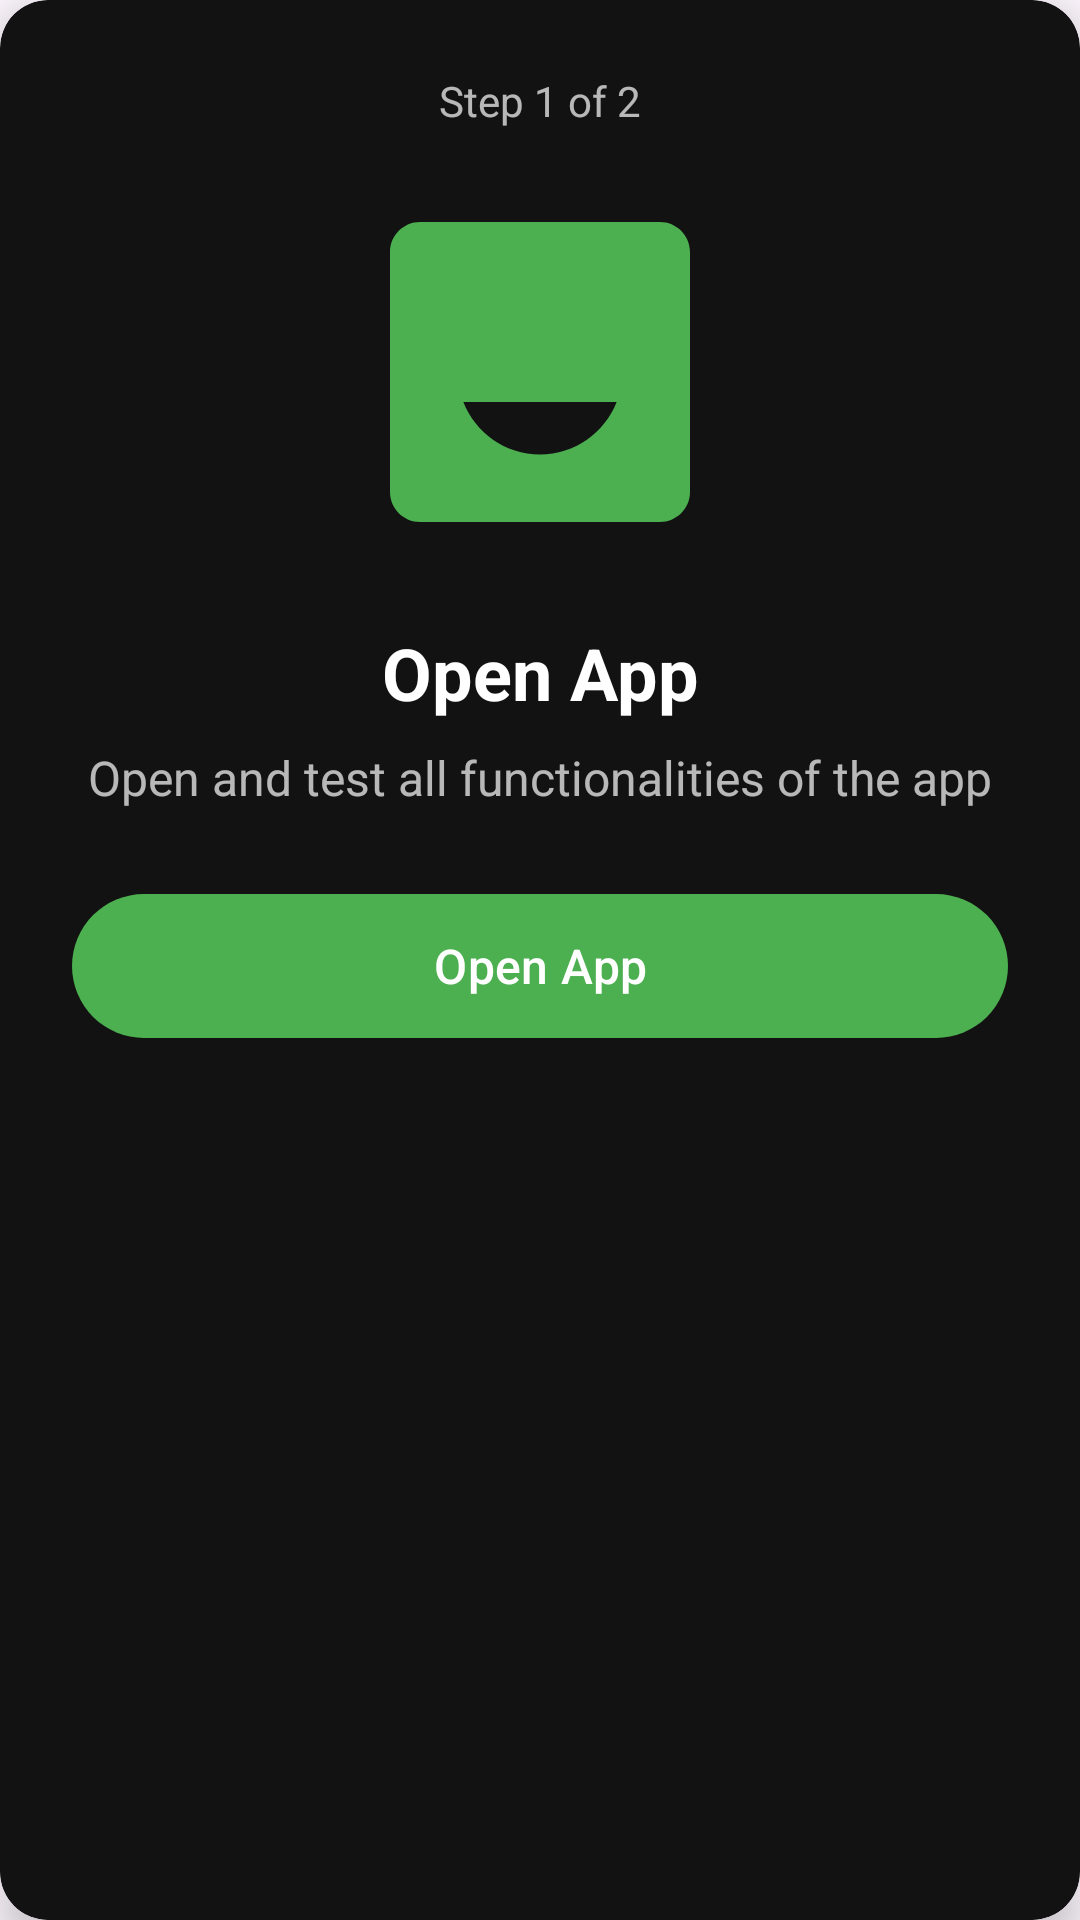

Icon bounding boxes for this 1080w x 1920h phone screenshot, format [left=x1, top=y1, right=x2, bottom=y2]:
App Launch Illustration: [left=390, top=222, right=690, bottom=522]
